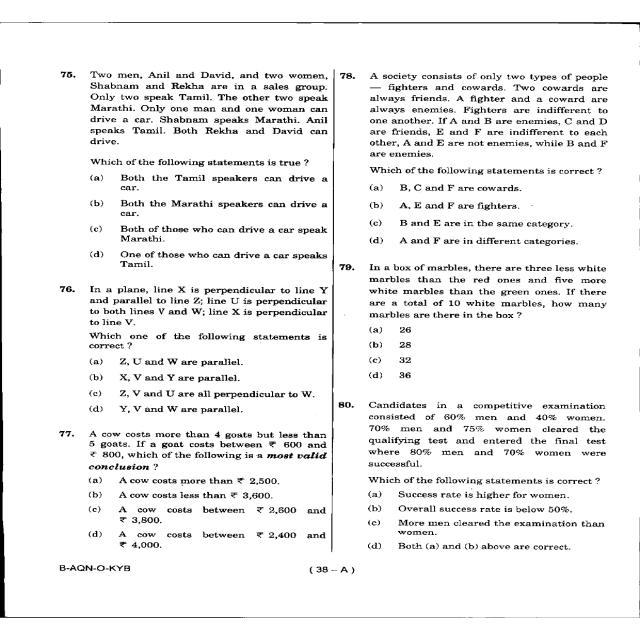Answer_Block: (19, 152, 336, 272), (19, 476, 336, 580), (341, 180, 640, 256), (341, 489, 640, 560), (341, 324, 640, 394), (19, 354, 336, 418)
Question_Answer_Block: (19, 52, 336, 588), (341, 52, 640, 587), (19, 52, 336, 272), (341, 52, 640, 256), (341, 395, 640, 584), (19, 420, 336, 580), (19, 268, 336, 418), (341, 256, 640, 393)
Question_Block: (341, 52, 640, 178), (19, 52, 336, 152), (341, 395, 640, 490), (19, 268, 336, 356), (341, 256, 640, 325), (19, 420, 336, 475)
Question_Paper_Area: (19, 52, 640, 587)
